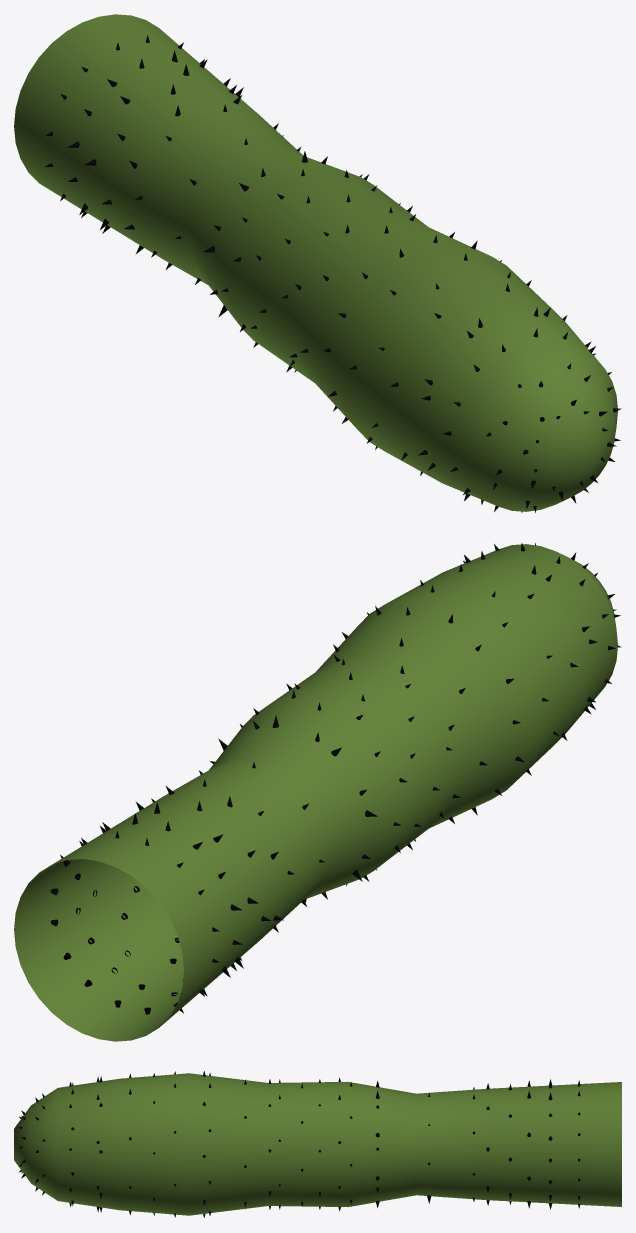
Rendered from CactoGrande.fbx.
3 renders of one model, top to bottom at view 1: azimuth 30°, elevation 25°; view 2: azimuth 150°, elevation 25°; view 3: azimuth 270°, elevation 25°, orthographic. The views are drawn at different scales.
Visible parts, largest first — view 1: BigCacto; view 2: BigCacto; view 3: BigCacto.
Boxes of the visible parts, x1,y1,x2,y2 form: BigCacto: (14,14,621,512); BigCacto: (14,543,621,1041); BigCacto: (14,1071,621,1217).
Size of the model in its own units: 258 by 258 by 1062.
